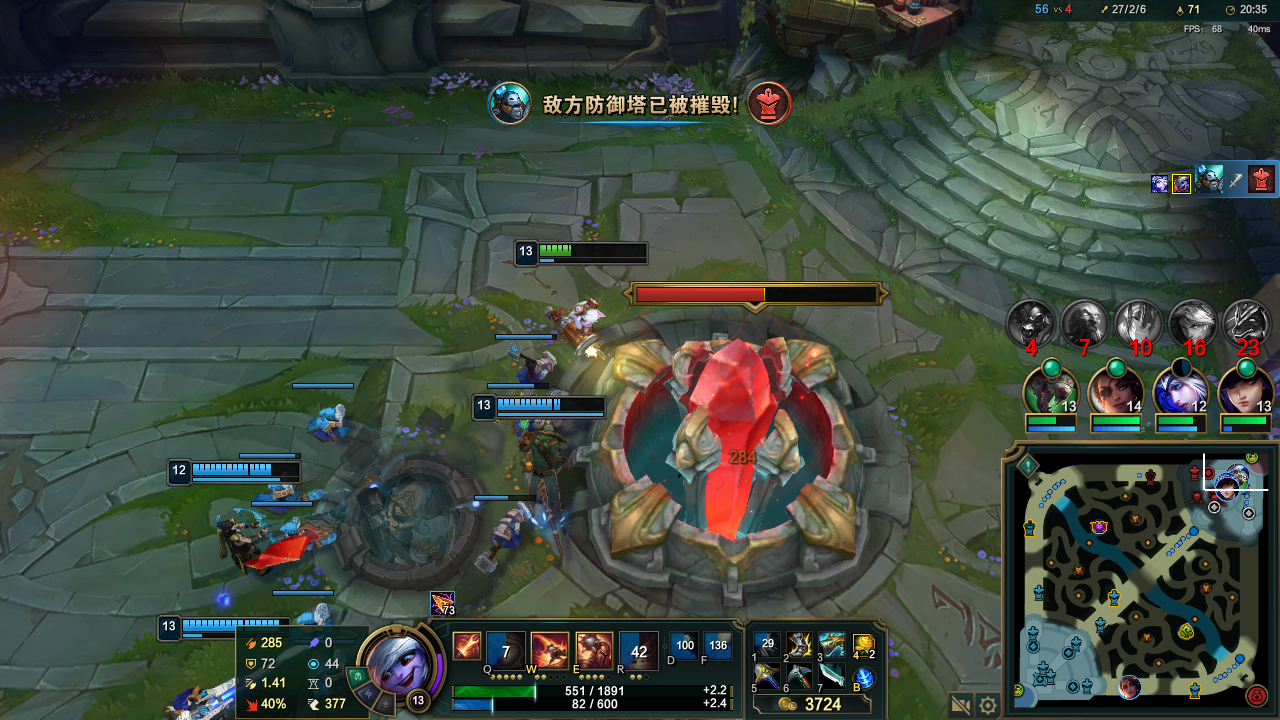DFDSJ: (603, 319, 863, 567)
WFXB: (296, 393, 371, 449), (471, 503, 534, 556), (511, 348, 570, 398), (256, 479, 328, 511), (295, 602, 336, 626), (267, 521, 307, 540)
